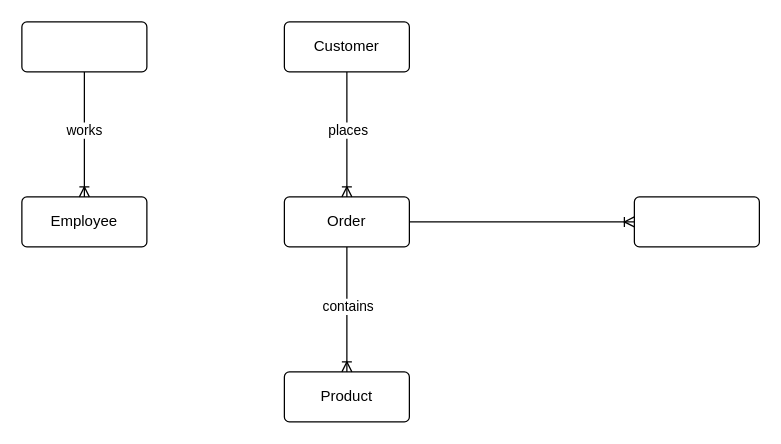
The diagram is 781 pixels wide and 444 high, and some of its shapes have lost their labels. The shapes that lost their labels are listed below. From the top down, each one's box as (x1, y1, x2, y2) in pixels, then its label:
(21, 21, 147, 72): Store
(633, 196, 759, 247): Coupon
